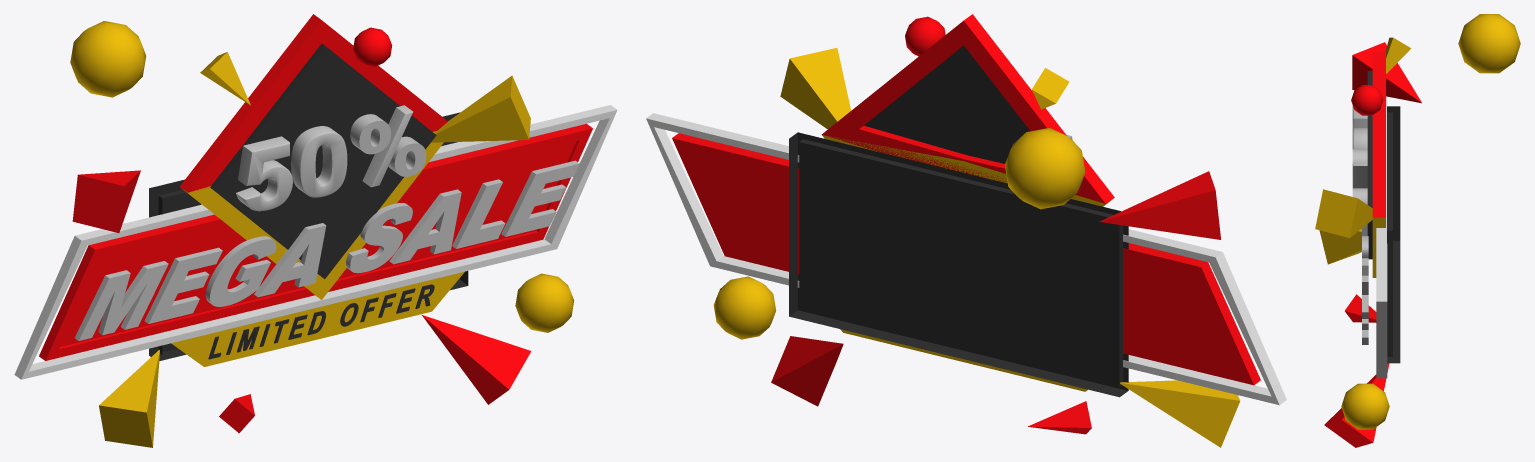
Rendered from offersale.glb.
3 views of the same model, side by side, from view 1: azimuth 30°, elevation 25°; view 2: azimuth 150°, elevation 25°; view 3: azimuth 270°, elevation 25° (orthographic). The views are drawn at different scales.
Visible parts, largest first — view 1: Cube, Text, Cube.002, Cube.001, Text.002, Cube.012, Cube.003, Icosphere.002, Cube.009, Cube.006, Cube.007, Cube.004 (+7 smaller); view 2: Cube.005, Cube, Cube.001, Cube.012, Cube.002, Icosphere.002, Cube.010, Cube.007, Cube.006, Cube.009, Icosphere.001, Cube.004 (+4 smaller); view 3: Cube.005, Icosphere.002, Cube.012, Cube.006, Cube.001, Icosphere.001, Cube.010, Text.002, Cube.009, Cube.007, Cube.002, Text (+4 smaller).
Boxes of the visible parts, bbox=[...] form: Cube: bbox=[39, 123, 592, 360]; Text: bbox=[75, 160, 579, 340]; Cube.002: bbox=[210, 43, 436, 278]; Cube.001: bbox=[14, 105, 617, 379]; Text.002: bbox=[236, 105, 426, 211]; Cube.012: bbox=[179, 14, 447, 192]; Cube.003: bbox=[171, 271, 464, 366]; Icosphere.002: bbox=[70, 21, 146, 97]; Cube.009: bbox=[422, 315, 531, 404]; Cube.006: bbox=[431, 75, 530, 142]; Cube.007: bbox=[99, 350, 159, 447]; Cube.004: bbox=[181, 131, 443, 299]; Cube.005: bbox=[789, 132, 1128, 397]; Cube: bbox=[672, 133, 1260, 385]; Cube.001: bbox=[646, 113, 1286, 405]; Cube.012: bbox=[822, 14, 1114, 203]; Cube.002: bbox=[864, 45, 1029, 163]; Icosphere.002: bbox=[1004, 128, 1085, 209]; Cube.010: bbox=[1099, 171, 1220, 239]; Cube.007: bbox=[1120, 380, 1240, 447]; Cube.006: bbox=[780, 48, 851, 129]; Cube.009: bbox=[771, 336, 843, 406]; Icosphere.001: bbox=[713, 276, 776, 339]; Cube.004: bbox=[822, 135, 1111, 206]; Cube.005: bbox=[1387, 106, 1400, 363]; Icosphere.002: bbox=[1458, 14, 1520, 73]; Cube.012: bbox=[1372, 52, 1385, 217]; Cube.006: bbox=[1315, 189, 1372, 237]; Cube.001: bbox=[1376, 96, 1387, 378]; Icosphere.001: bbox=[1341, 383, 1389, 429]; Cube.010: bbox=[1352, 42, 1421, 103]; Text.002: bbox=[1352, 106, 1367, 204]; Cube.009: bbox=[1324, 363, 1389, 447]; Cube.007: bbox=[1319, 229, 1361, 264]; Cube.002: bbox=[1367, 71, 1372, 259]; Text: bbox=[1362, 224, 1368, 344].
Bounding box in the file's own units: 523 × 348 × 194.
